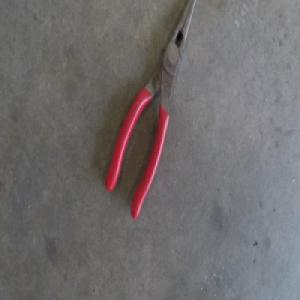Pliers: (105, 1, 195, 219)
